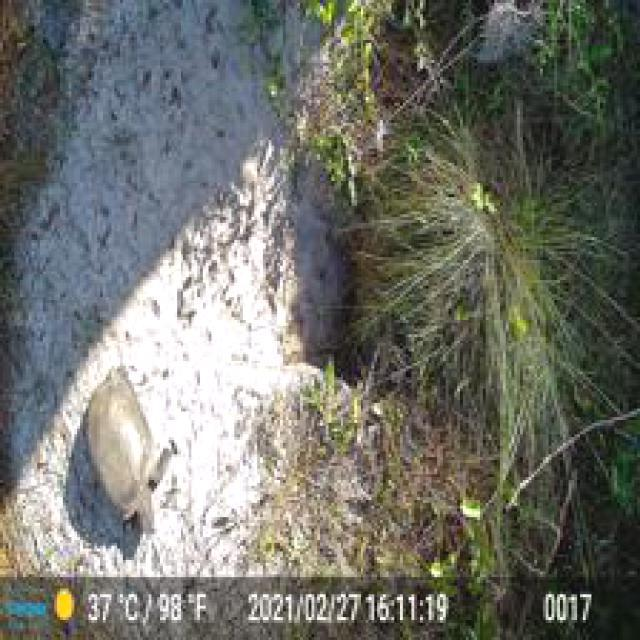tortoise: (83, 366, 177, 538)
